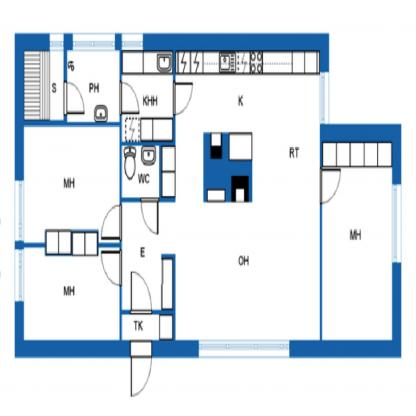door: (130, 338, 152, 396), (130, 272, 152, 315), (101, 248, 123, 288), (62, 81, 86, 116), (320, 168, 342, 205), (117, 82, 142, 114), (100, 205, 122, 240), (173, 82, 193, 119), (140, 199, 158, 237)
window: (199, 338, 289, 356), (73, 32, 116, 51), (392, 184, 402, 263), (318, 71, 330, 124), (15, 249, 24, 304), (16, 181, 24, 240), (122, 34, 142, 51), (50, 33, 63, 51)
zone: (123, 75, 320, 340), (177, 52, 321, 342), (323, 143, 391, 340), (25, 126, 118, 240), (24, 246, 120, 340), (123, 51, 173, 141), (68, 48, 120, 121), (24, 51, 63, 123), (123, 146, 159, 195), (123, 315, 171, 338)
